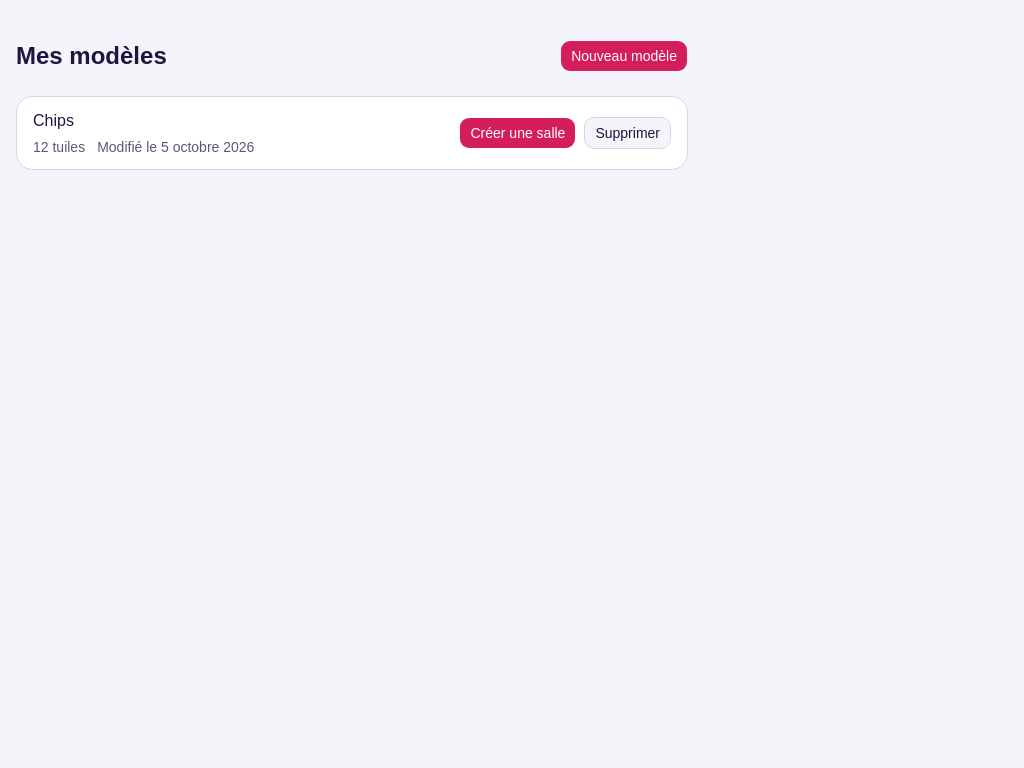
Test case: TemplatesPage › shows an error when the template to delete no longer exists
Click the button with aria-label "Supprimer Chips".
click(628, 133)  # box [584,117,671,149]
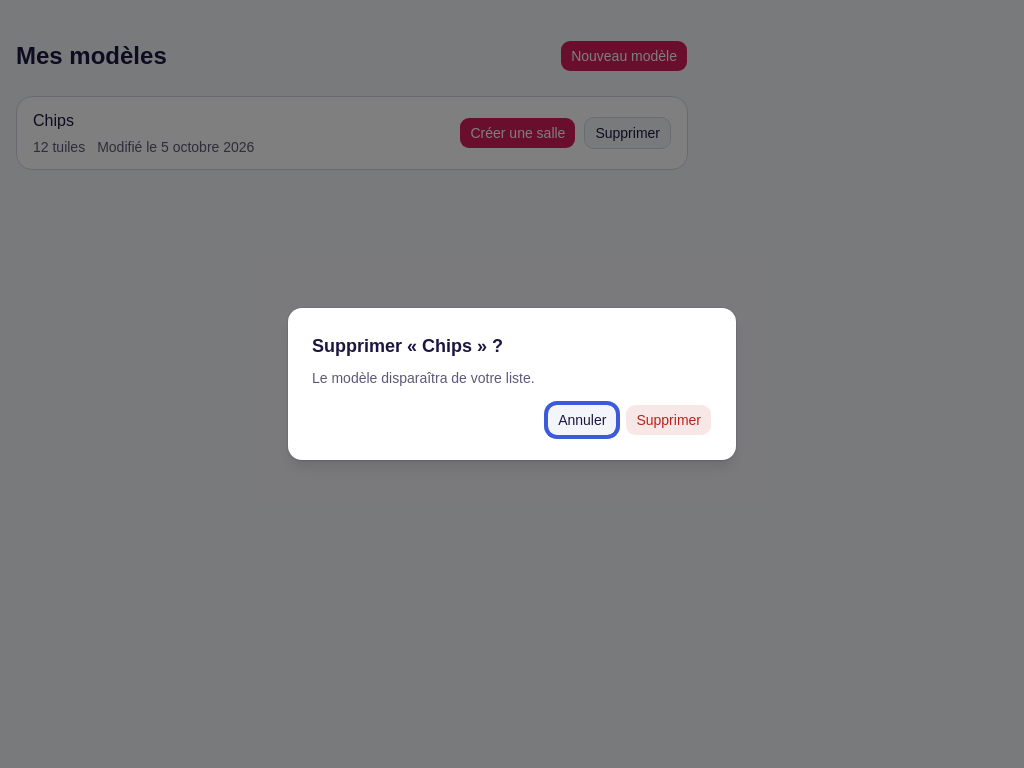
Click the button "Supprimer" below "Le modèle disparaîtra de votre liste.".
click(669, 420)  # box [625,404,712,436]
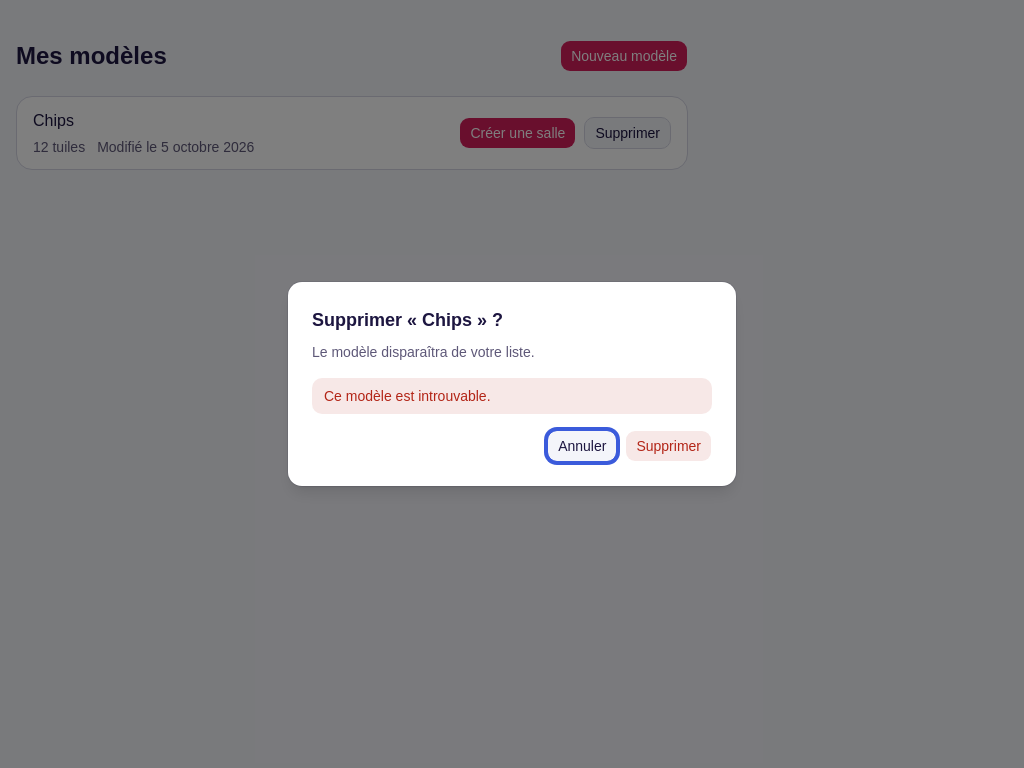
Now the message reads "Ce modèle est introuvable.", box [324,388,490,404]
